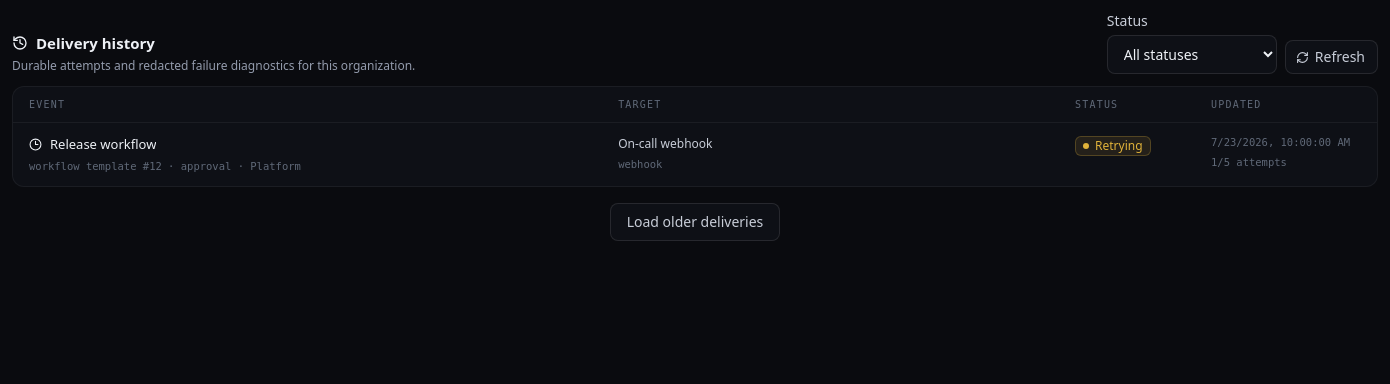
Test: notification delivery history › shows retry status, bounded diagnostics, and attempt details
Check: the text "On-call webhook" is shown, box x1=618 y1=135 x2=712 y2=152
Click the text "Release workflow" at (103, 145), box x1=50 y1=135 x2=156 y2=154
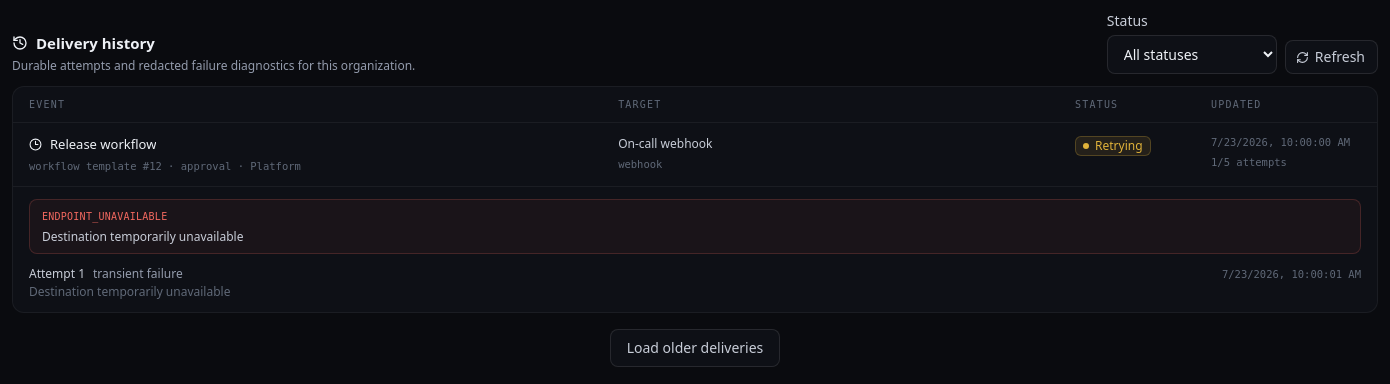
Check: the text "Destination temporarily unavailable" is shown 2 times, box x1=42 y1=228 x2=243 y2=245; x1=29 y1=284 x2=230 y2=300
Check: the text "Attempt 1" is shown, box x1=29 y1=265 x2=85 y2=282
